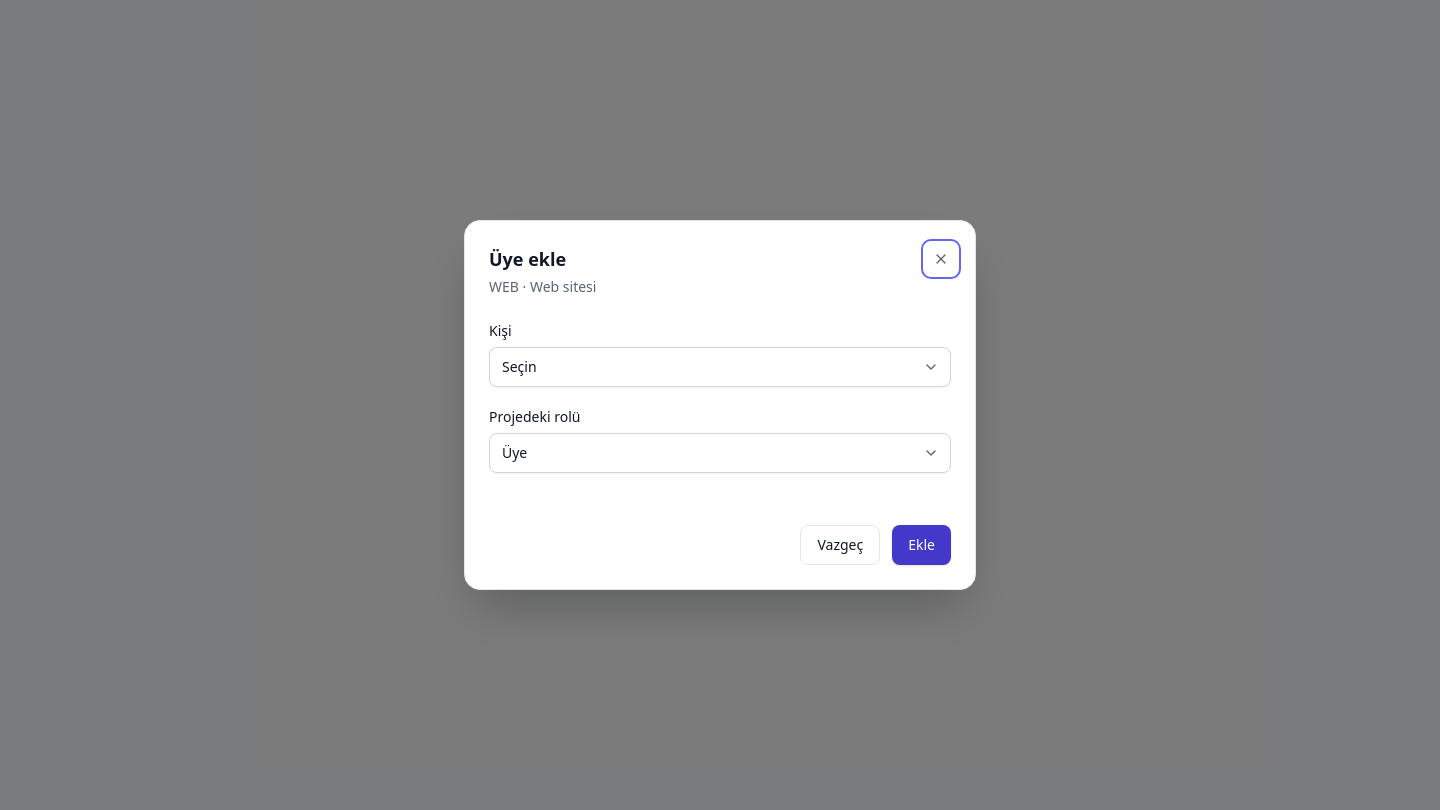
Test: AddMemberDialog › shows the server's reason when adding fails
Select "Ayşe Test (u2@abc.com)" in the dropdown labelled "Kişi" at (720, 367), box [489,347,951,387]
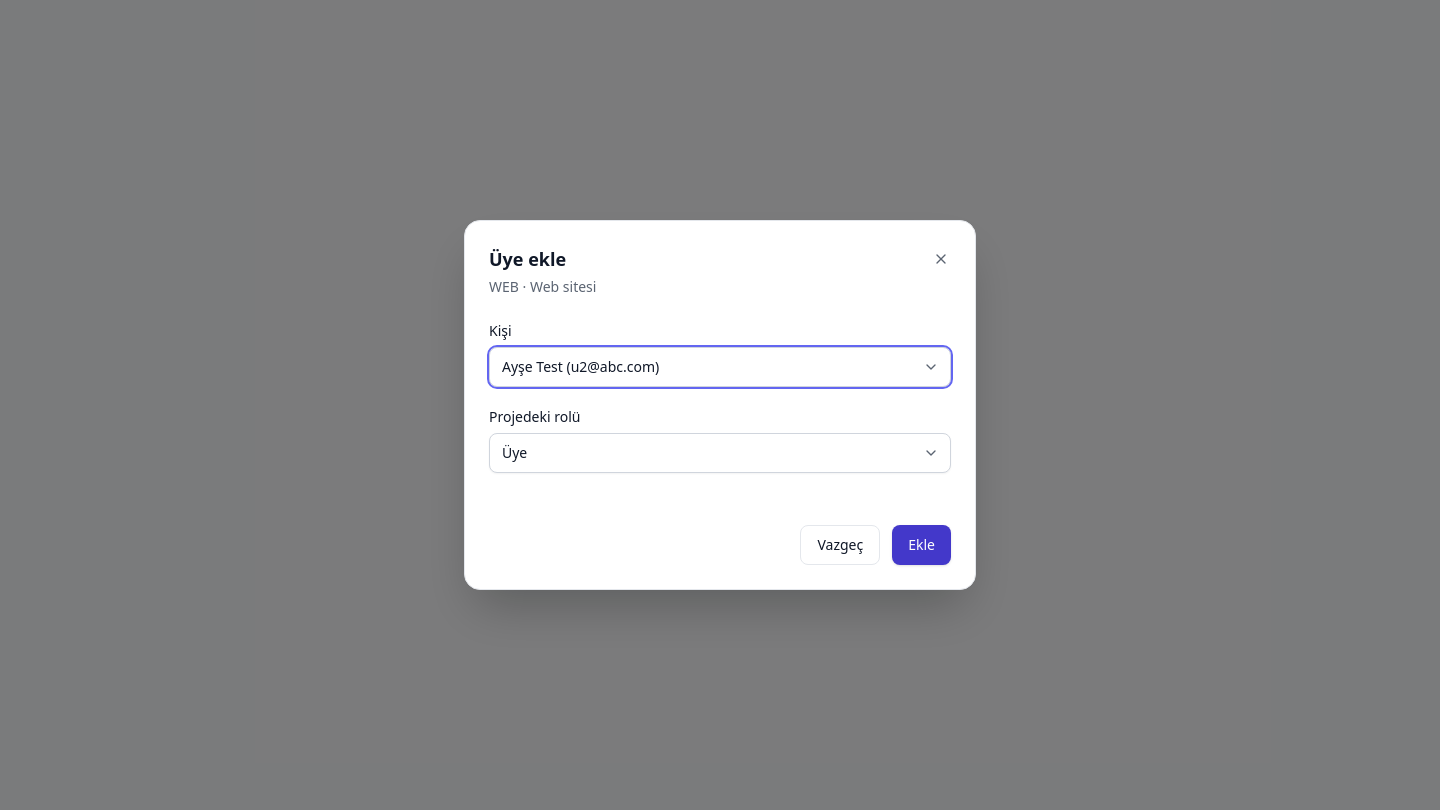
Click the button "Ekle".
click(922, 545)  # box [892,525,951,565]
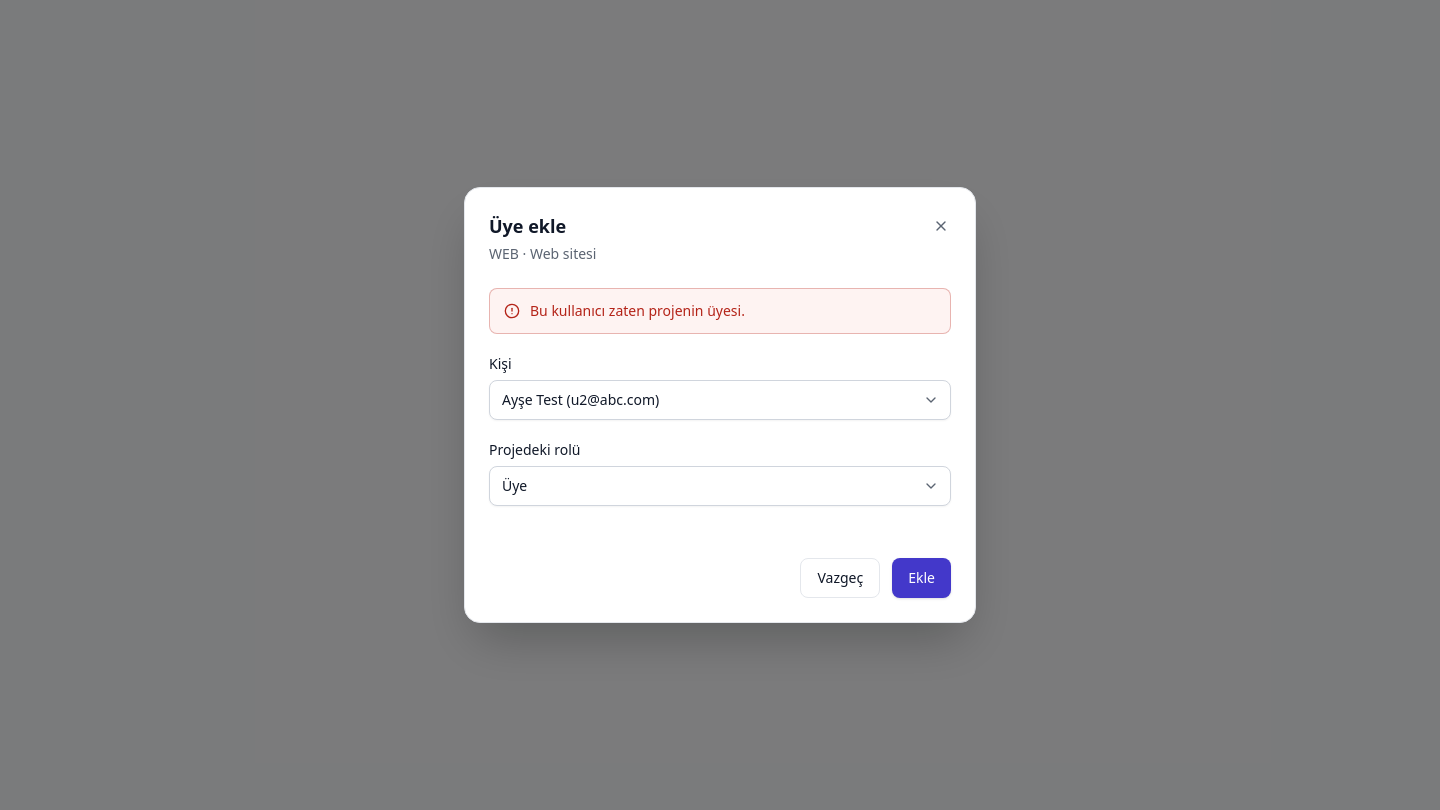
Expected: the text "Bu kullanıcı zaten projenin üyesi." is shown, [530,301,745,321]
